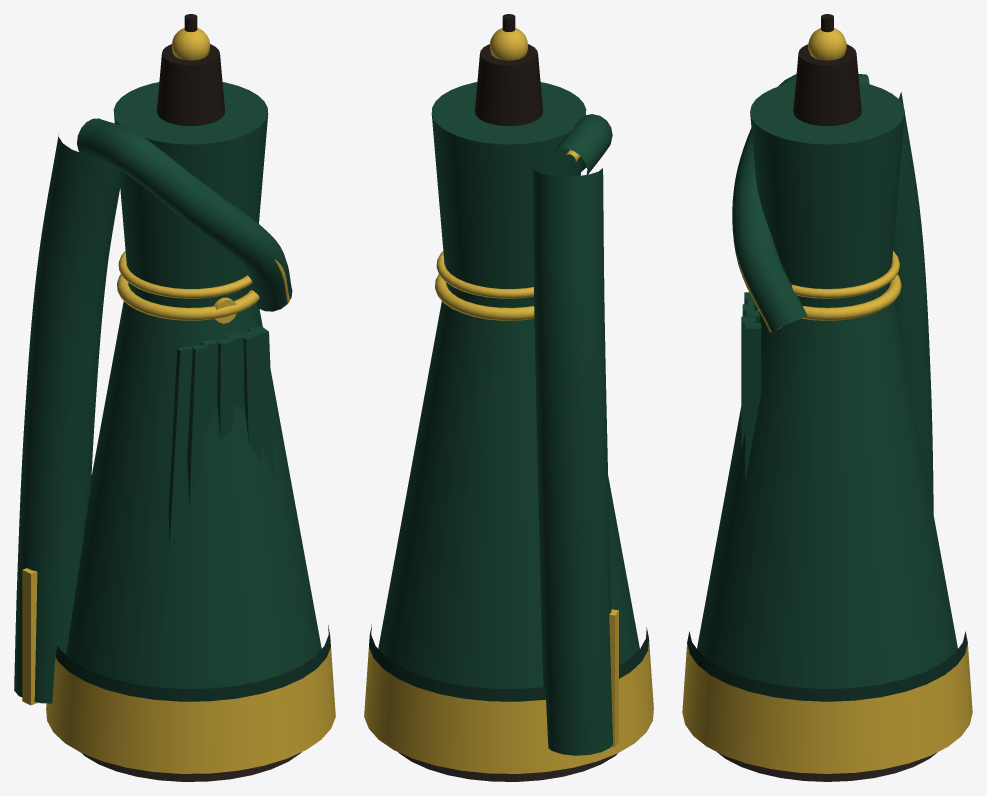
File: temple-green.glb
The picture shows the model from 3 angles, left to right: view 1: azimuth 30°, elevation 25°; view 2: azimuth 150°, elevation 25°; view 3: azimuth 270°, elevation 25°; orthographic projection.
Parts seen in each view (by area): view 1: Temple Green; view 2: Temple Green; view 3: Temple Green.
Boxes of the visible parts, x1,y1,x2,y2 form: Temple Green: (14, 14, 335, 781); Temple Green: (364, 14, 653, 781); Temple Green: (682, 14, 972, 781).
Size of the model in its own units: 0.9414 by 2.44 by 0.9.
